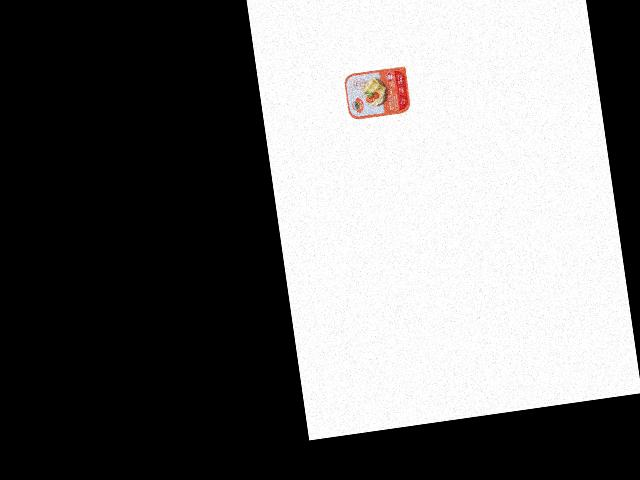cheese: (341, 64, 415, 123)
